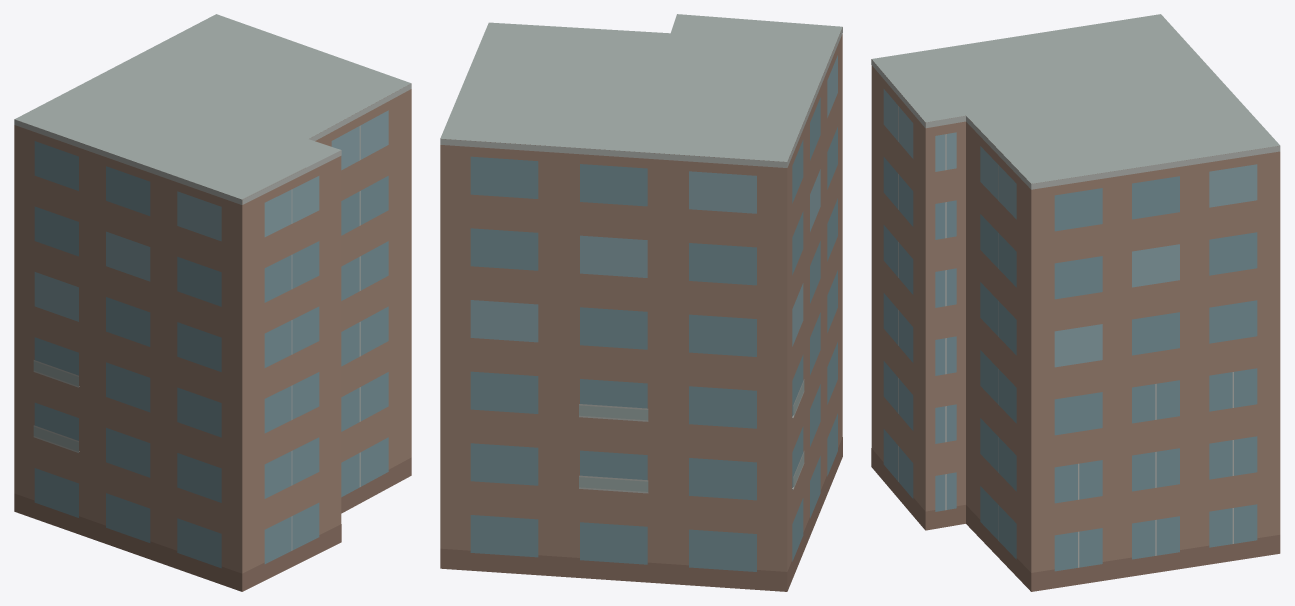
The model's file is survey-upis-32958482.glb.
The picture shows the model from 3 angles, left to right: view 1: azimuth 30°, elevation 25°; view 2: azimuth 150°, elevation 25°; view 3: azimuth 270°, elevation 25°; orthographic projection. The views are drawn at different scales.
Parts seen in each view (by area): view 1: survey-upis-32958482.tmp; view 2: survey-upis-32958482.tmp; view 3: survey-upis-32958482.tmp.
Part boxes in pixels (x1=…): survey-upis-32958482.tmp: x1=14, y1=14, x2=411, y2=591; survey-upis-32958482.tmp: x1=440, y1=14, x2=842, y2=591; survey-upis-32958482.tmp: x1=871, y1=14, x2=1280, y2=591.
Size of the model in its own units: 15.28 by 17.1 by 15.54.
